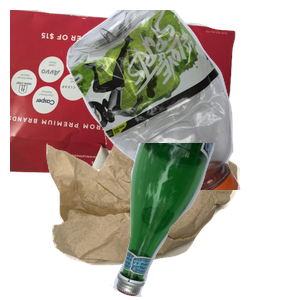glass: (109, 143, 300, 300)
paper: (10, 10, 238, 190)
plastic: (64, 10, 300, 190)
trash: (44, 136, 277, 300)
